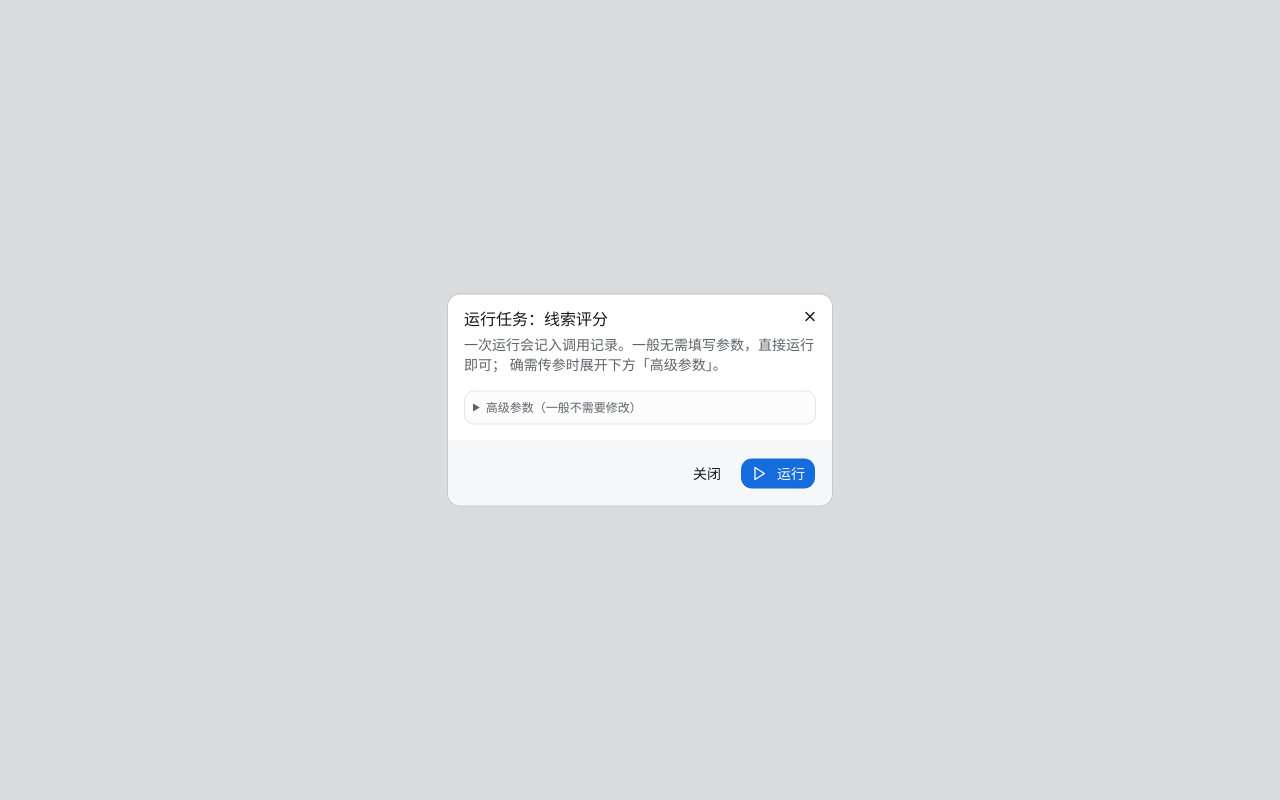
it: RunTaskDialog · 参数表单与结果展示（C36 #13） › 成功（AI 路径）⇒ 显示 ai:provider 与耗时；all_providers_failed 额外提示
Click the button "运行". click: (778, 474)
box: [740,458,816,490]
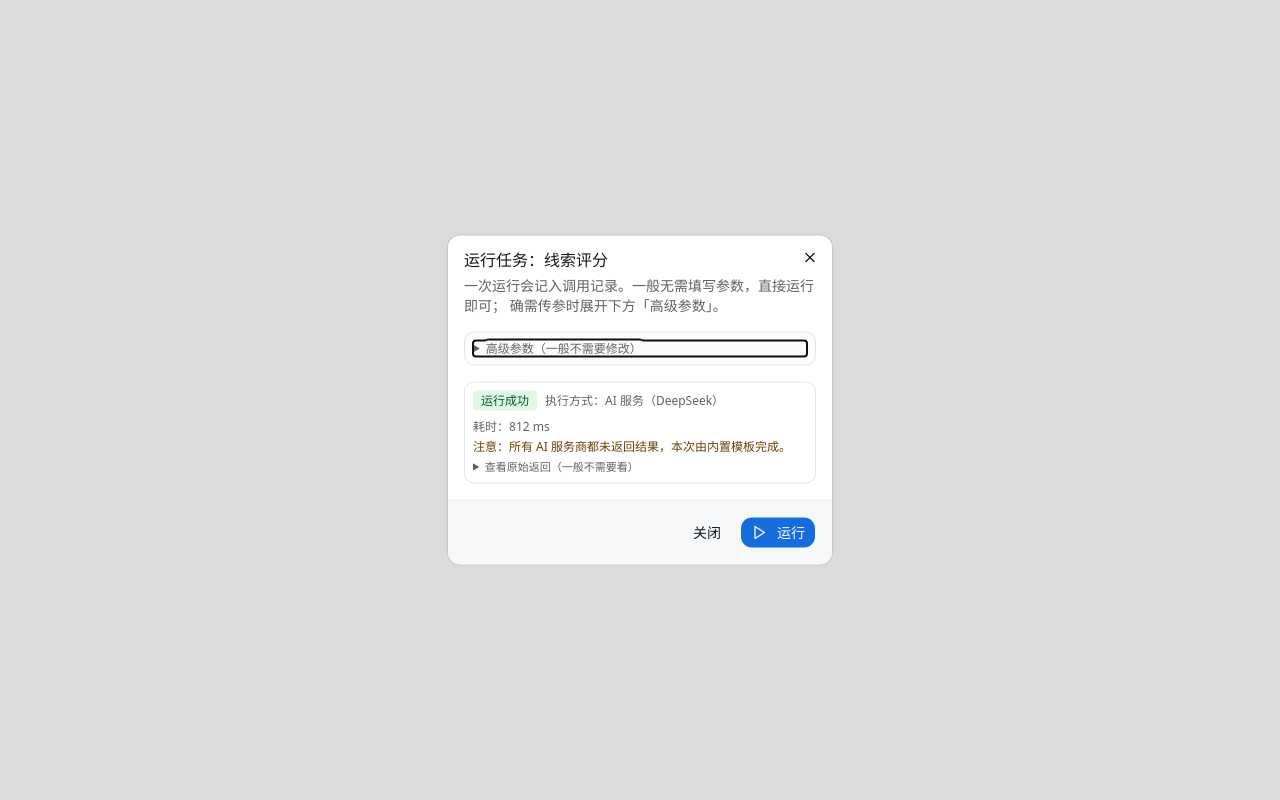
Now the text "AI 服务（DeepSeek）" is shown, box [605,392,724,408]
Now the text "812 ms" is shown, box [509,418,550,434]
Now the text "所有 AI 服务商都未返回结果" is shown, box [473,438,791,454]
